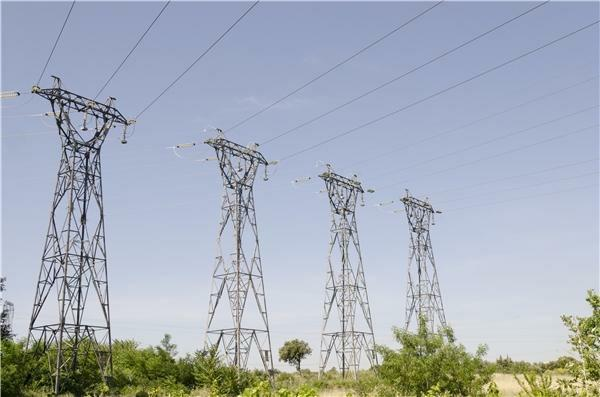power_tower: (15, 74, 138, 392), (186, 119, 278, 381), (302, 153, 389, 382), (393, 180, 456, 351)
